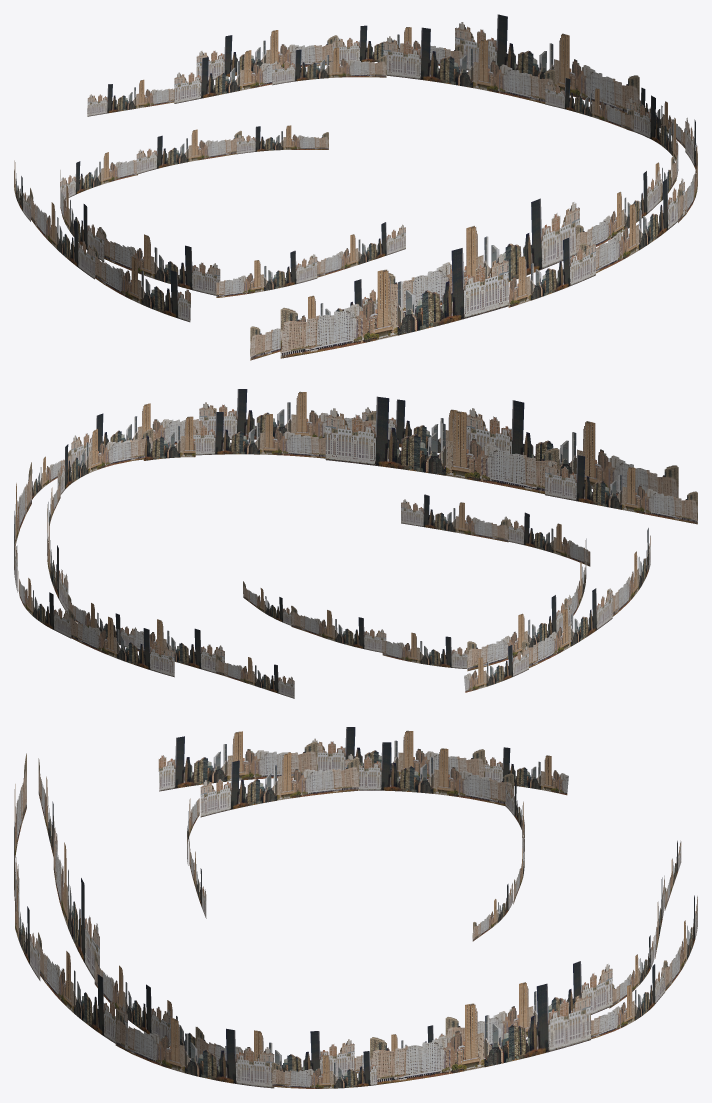
File: New_York_track_building_wall.dae
The picture shows the model from 3 angles, top to bottom: view 1: azimuth 30°, elevation 25°; view 2: azimuth 150°, elevation 25°; view 3: azimuth 270°, elevation 25°; orthographic projection. The views are drawn at different scales.
Parts seen in each view (by area): view 1: New_York_track_building_wall; view 2: New_York_track_building_wall; view 3: New_York_track_building_wall.
Part boxes in pixels (bbox=[...]): New_York_track_building_wall: bbox=[14, 14, 697, 360]; New_York_track_building_wall: bbox=[14, 389, 697, 698]; New_York_track_building_wall: bbox=[14, 727, 697, 1088].
Size of the model in its own units: 99.19 by 91.4 by 11.91.
Materials: 1 (1 with a texture image).
